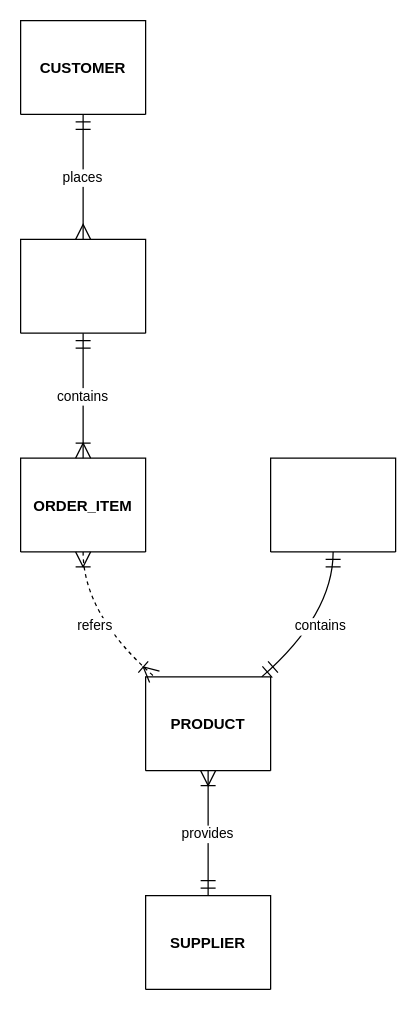
This 416x1010 diagram has some shape labels left out. The shapes that lost their labels are listed below. From the top down, each one's centre as x and y in pixels, then its label:
(82,285): ORDER
(332,504): CATEGORY
